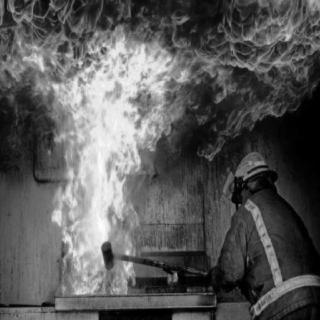Fire: (2, 1, 312, 297)
